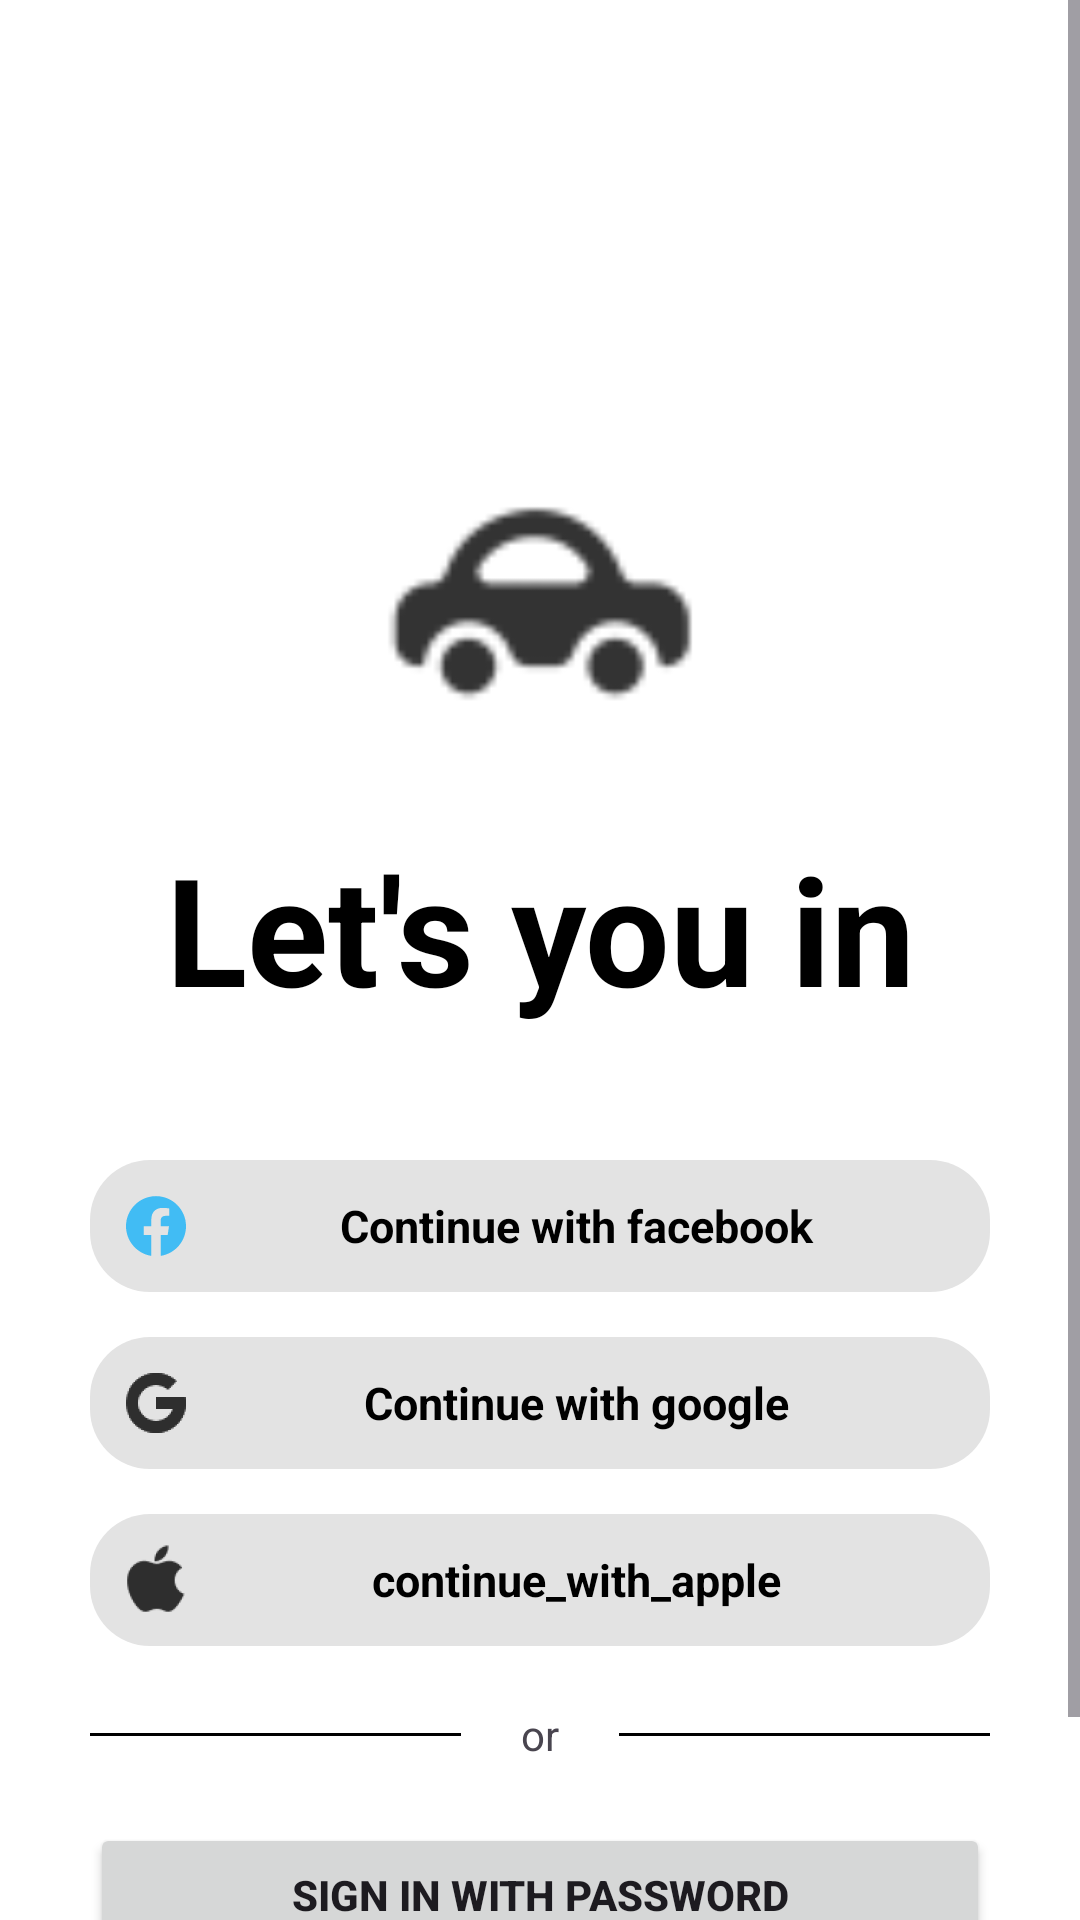

Locate icon controls on the screen. Image size 1080w x 1920h, boxes as (x1, y1, x2, y2).
carz: (390, 507, 692, 698)
